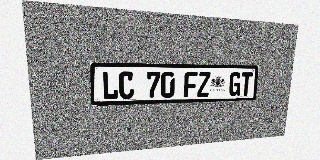0: (161, 72, 175, 98)
7: (146, 71, 161, 98)
C: (118, 71, 134, 99)
F: (184, 72, 198, 97)
G: (228, 72, 242, 96)
L: (102, 71, 118, 100)
T: (240, 72, 253, 96)
Z: (197, 72, 211, 97)
